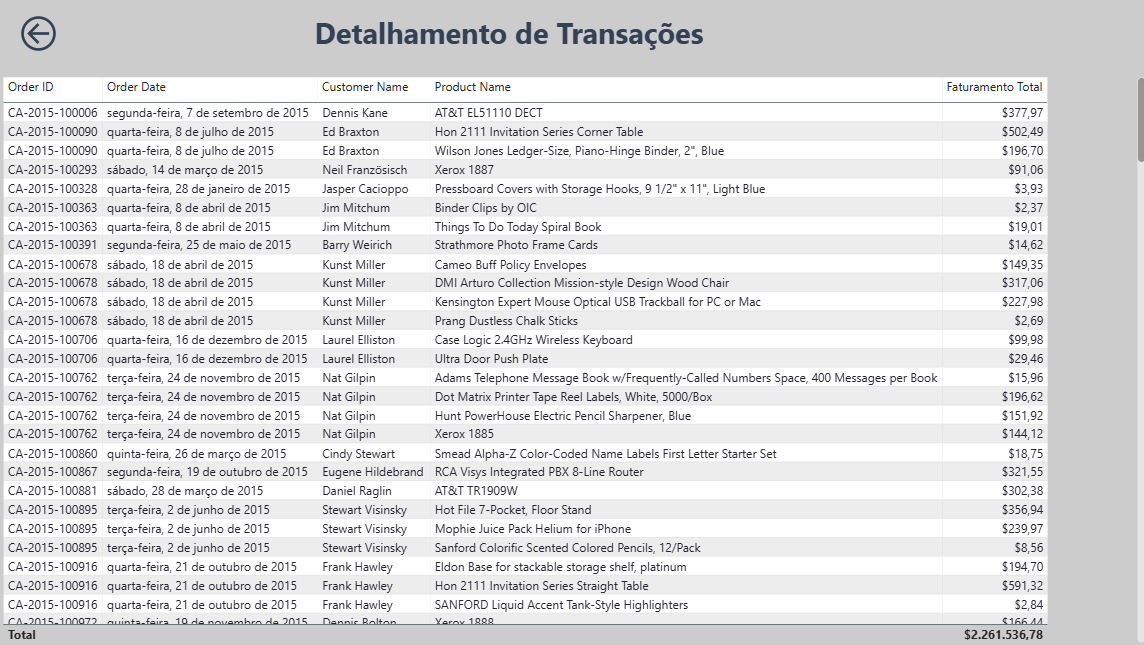

The dashboard page shown, as its layout file describes it:
{"tool":"powerbi","page":{"name":"Detalhes","canvas":[1280,720],"ordinal":2},"visuals":[{"type":"tableEx","fields":{"Values":["train.Order ID","train.Order Date","train.Customer Name","train.Product Name","Medidas.Faturamento Total"]},"box":[0,81.7,1280,638.3],"z":0},{"type":"actionButton","box":[20,13.3,70,50],"z":1000},{"type":"textbox","box":[346.7,10,601.7,80],"z":2000}]}

Visuals, with their boxes in screenshot pixels (x1, y1, x2, y2), scaled from the page's 1280x720 canvas onto the 1144x645 screenshot:
tableEx - train.Order ID x train.Order Date: 0:73:1143:644
actionButton: 18:12:80:57
textbox: 310:9:848:81
